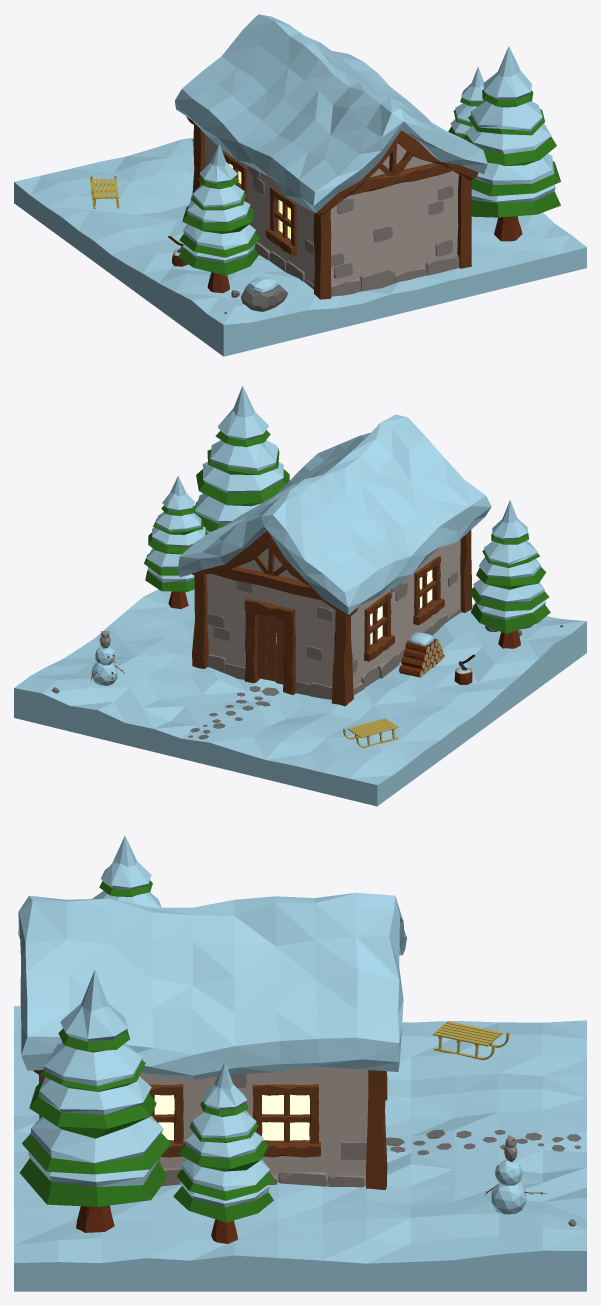
File: winter scene.glb
The picture shows the model from 3 angles, top to bottom: view 1: azimuth 30°, elevation 25°; view 2: azimuth 150°, elevation 25°; view 3: azimuth 270°, elevation 25°; orthographic projection. The views are drawn at different scales.
Visible parts, largest first — view 1: Plane, Cube.011, Cube, Cylinder, Cylinder.002, Cube.001, Cube.018, Cube.024, Cube.017, Cube.003, Cylinder.001, Cube.099 (+5 smaller); view 2: Plane, Cube.011, Cube, Cylinder, Cylinder.002, Cylinder.001, Cube.013, Cube.015, Cube.020, Cube.022, Cube.002, Cube.024 (+4 smaller); view 3: Plane, Cube.011, Cylinder, Cylinder.001, Cube, Cube.027, Cylinder.002, Cube.016, Plane.003, Cube.106, Cube.021, Icosphere (+3 smaller).
Boxes of the visible parts, box(x1,y1,x2,y2) form: Plane: box(14, 137, 586, 356); Cube.011: box(174, 14, 487, 213); Cube: box(205, 134, 458, 284); Cylinder: box(463, 46, 560, 241); Cylinder.002: box(177, 144, 259, 292); Cube.001: box(316, 130, 478, 215); Cube.018: box(313, 210, 331, 299); Cube.024: box(265, 186, 296, 255); Cube.017: box(457, 175, 471, 268); Cube.003: box(349, 163, 452, 195); Cylinder.001: box(448, 66, 485, 138); Cube.099: box(241, 281, 287, 311); Plane: box(14, 589, 586, 806); Cube.011: box(177, 414, 491, 614); Cube: box(206, 539, 460, 686); Cylinder: box(194, 386, 289, 533); Cylinder.002: box(469, 499, 550, 648); Cylinder.001: box(144, 476, 208, 608); Cube.013: box(244, 598, 295, 694); Cube.015: box(331, 610, 353, 706); Cube.020: box(257, 615, 284, 684); Cube.022: box(364, 592, 394, 661); Cube.002: box(191, 530, 357, 616); Cube.024: box(413, 556, 444, 625); Plane: box(14, 1006, 586, 1291); Cube.011: box(18, 892, 406, 1079); Cylinder: box(19, 969, 171, 1232); Cylinder.001: box(173, 1062, 274, 1243); Cube: box(139, 1066, 368, 1185); Cube.027: box(252, 1084, 320, 1157); Cylinder.002: box(92, 836, 161, 907); Cube.016: box(366, 1070, 387, 1189); Plane.003: box(262, 1094, 309, 1140); Cube.106: box(433, 1021, 509, 1060); Cube.021: box(149, 1084, 185, 1157); Icosphere: box(491, 1182, 526, 1214).
Size of the model in its own units: 10.63 by 5.94 by 10.63.
20 materials, 1 textured.
